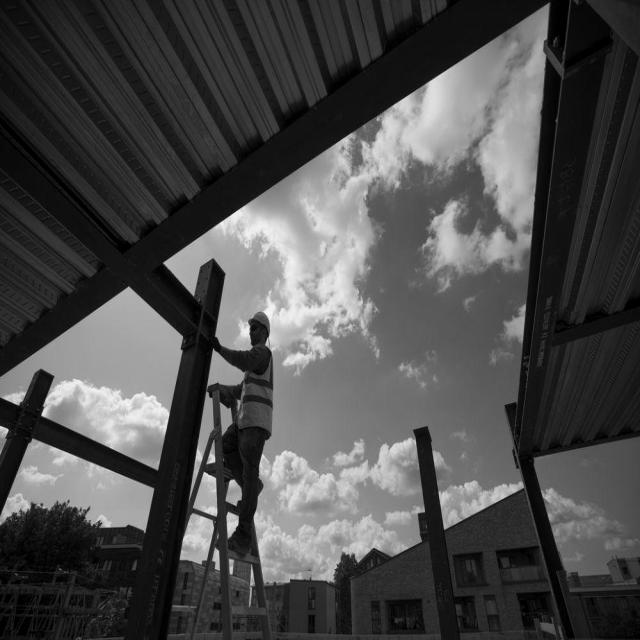head_helmet: (248, 312, 270, 331)
person: (212, 311, 273, 553)
vest: (236, 345, 275, 434)
